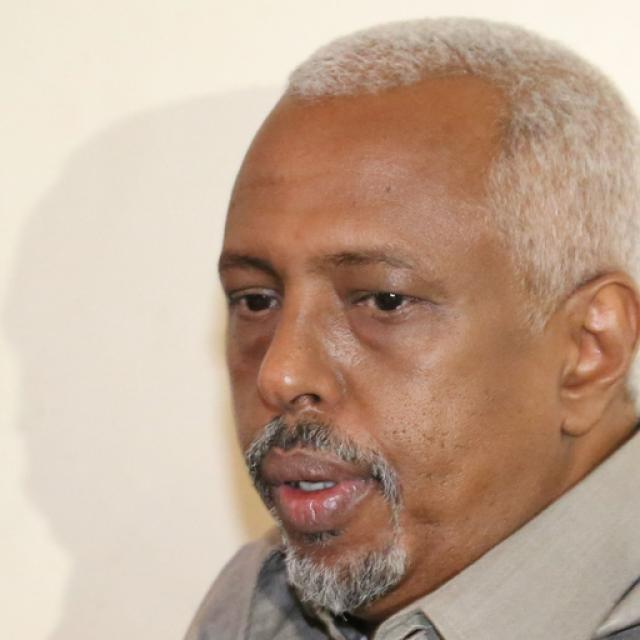neutral: (216, 65, 557, 622)
